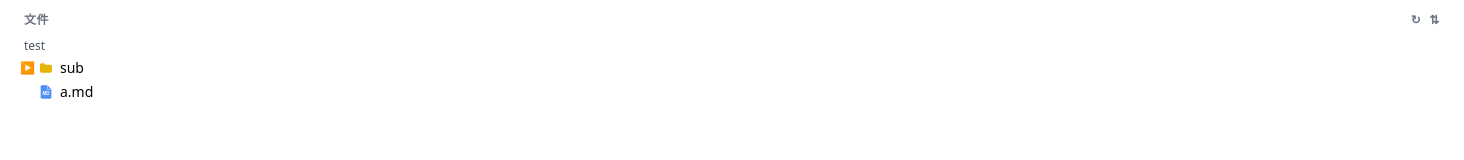
Test: FileTree › 排序 › 点击排序按钮应显示排序选项
Click the button titled "排序".
click(1435, 20)  # box [1429,12,1440,28]
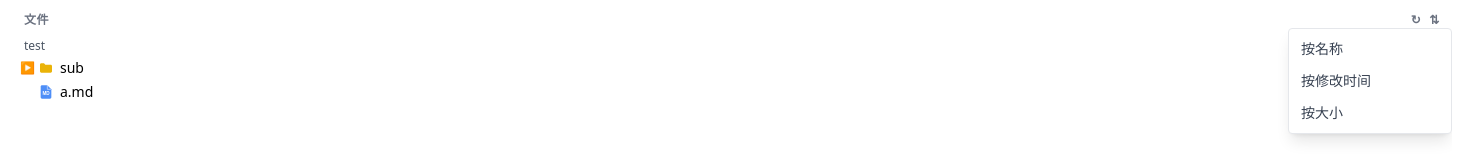
Expected: the menu item "按名称" is shown, [1289,33,1451,65]
Expected: the menu item "按修改时间" is shown, [1289,65,1451,97]
Expected: the menu item "按大小" is shown, [1289,97,1451,129]
